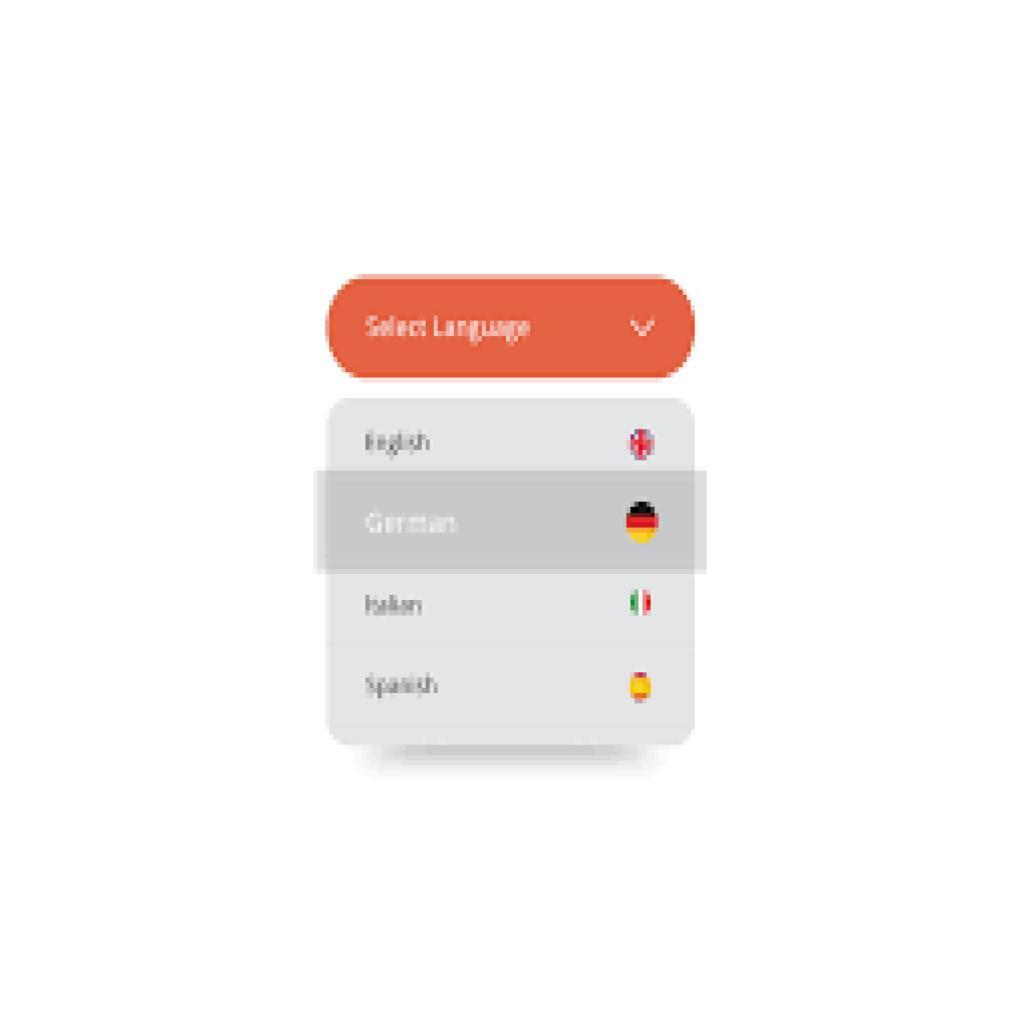dropdown: (326, 278, 698, 380)
